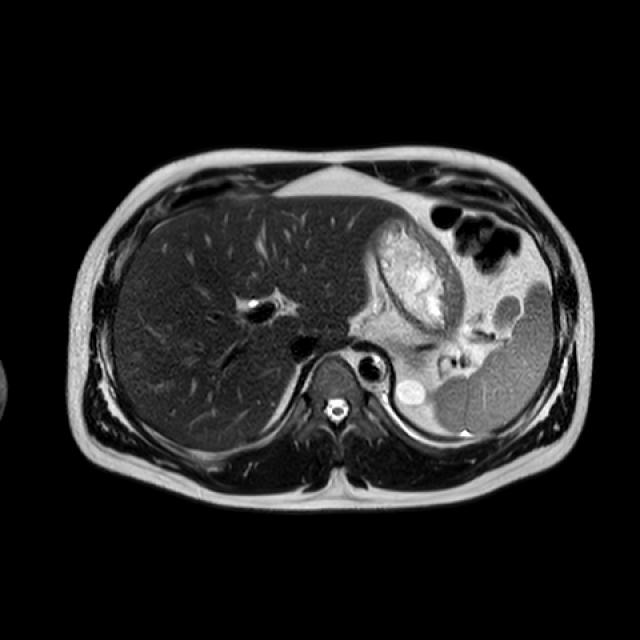sol: (394, 374, 431, 406)
